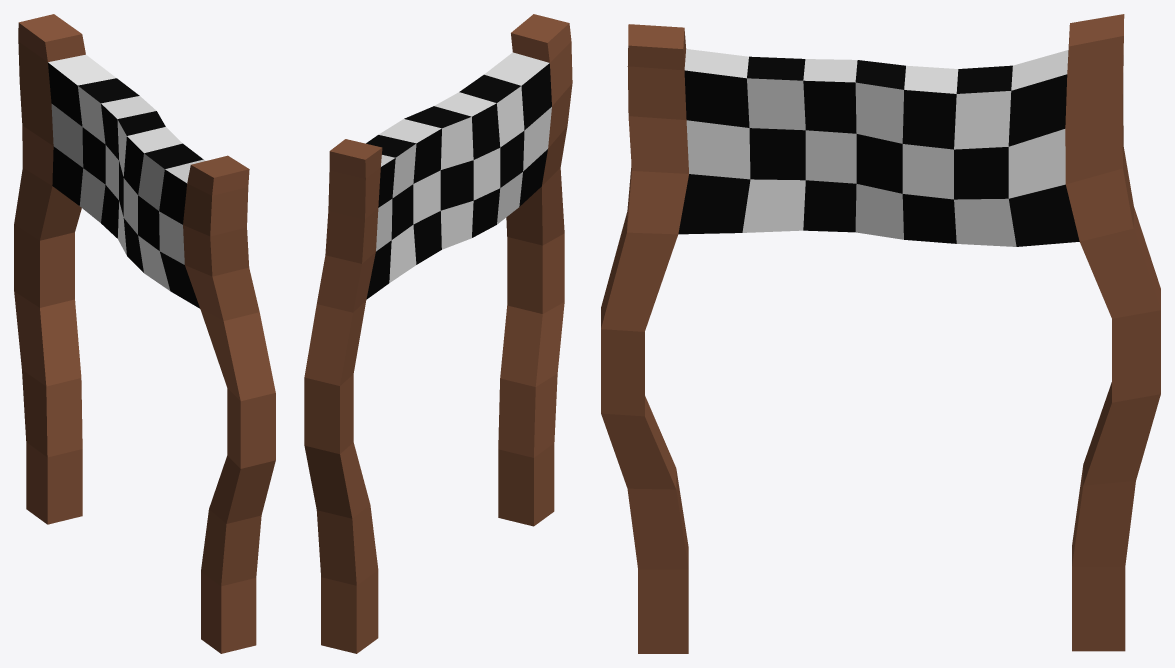
File: Finish.fbx
3 views of the same model, side by side, from view 1: azimuth 30°, elevation 25°; view 2: azimuth 150°, elevation 25°; view 3: azimuth 270°, elevation 25° (orthographic). The views are drawn at different scales.
Parts seen in each view (by area): view 1: Finish; view 2: Finish; view 3: Finish.
Boxes of the visible parts, x1=… form: Finish: x1=14, y1=14, x2=275, y2=653; Finish: x1=304, y1=14, x2=572, y2=653; Finish: x1=601, y1=14, x2=1160, y2=653.
Bounding box in the file's own units: 131 × 890 × 736.
